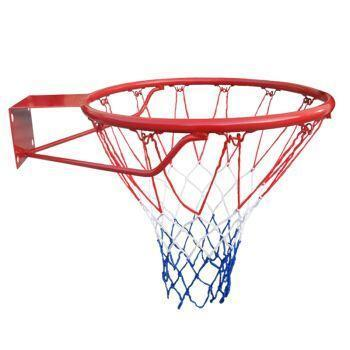rim: (82, 76, 335, 311)
